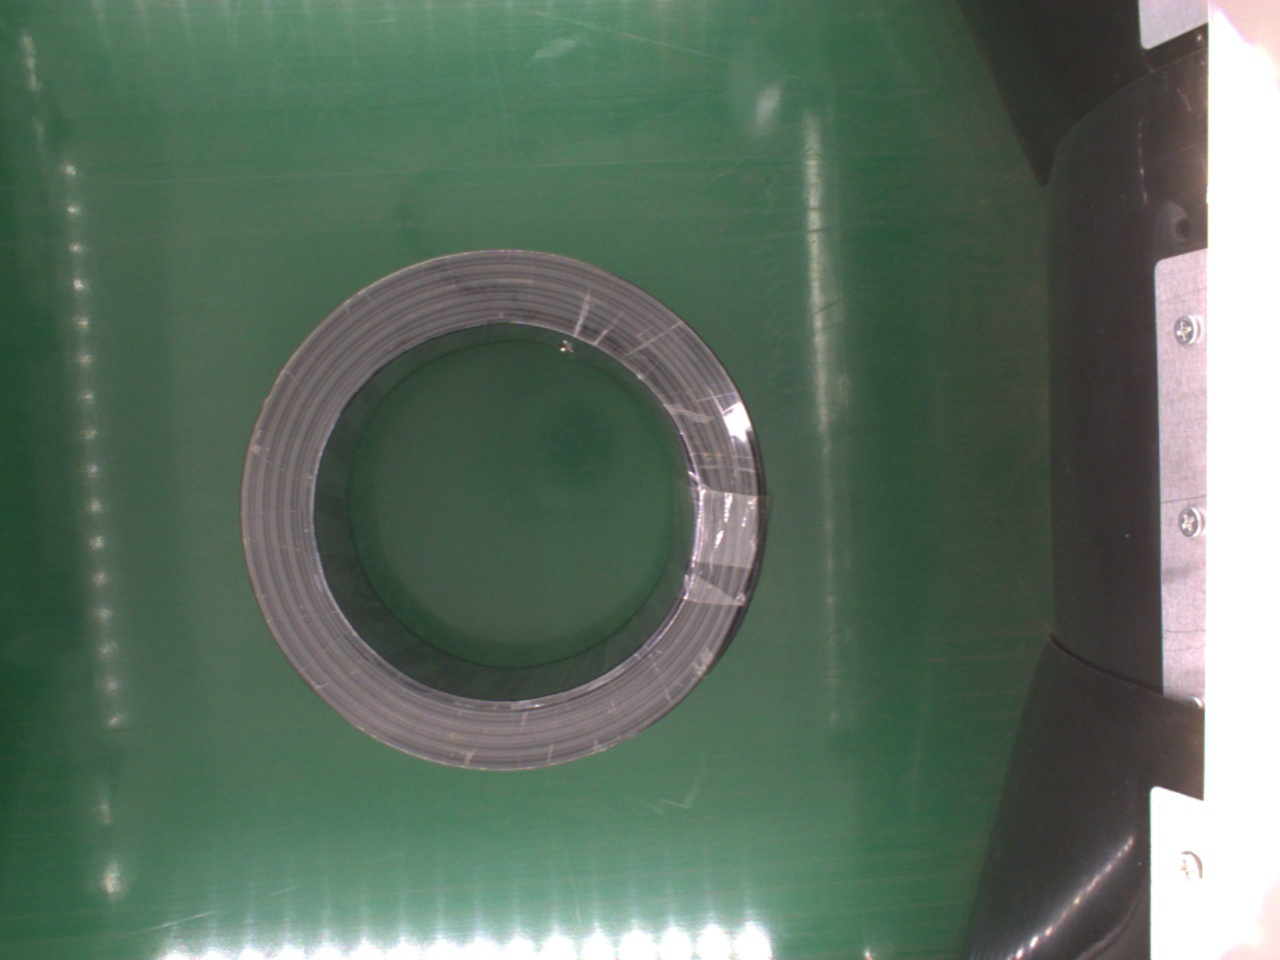black: (234, 241, 763, 774)
